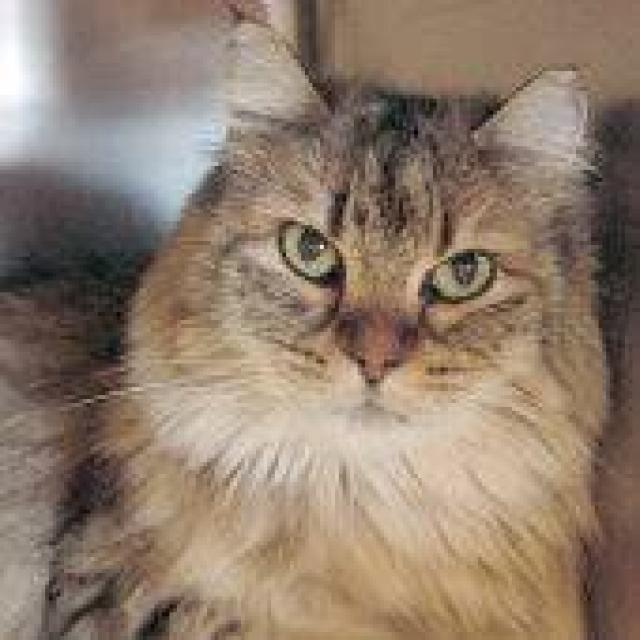cat: (37, 0, 614, 636)
